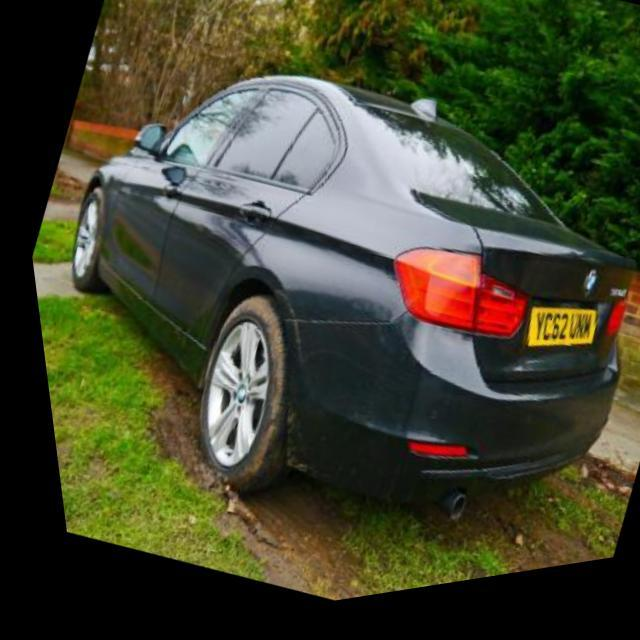license_plate: (504, 303, 594, 388)
